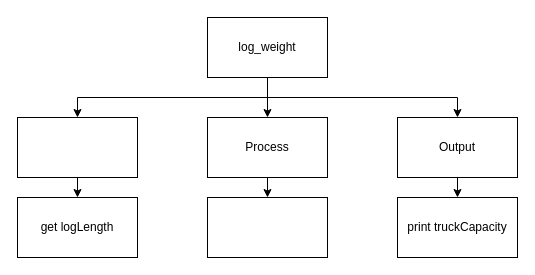
This 535x275 diagram has some shape labels left out. The box of each missing label's shape, as (x1, y1, x2, y2) in pixels:
Input: (16, 116, 138, 178)
truckCapacity = (1100 / 22) / logLength: (206, 196, 328, 258)
